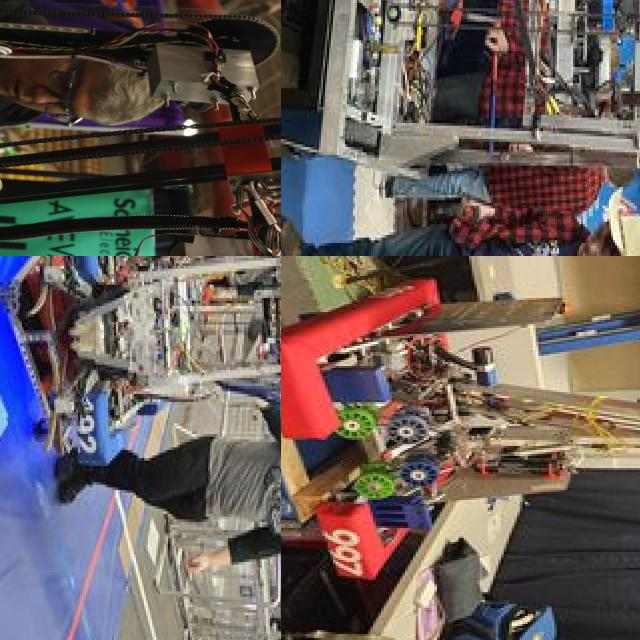FRC-Robots: (281, 256, 640, 599), (309, 0, 640, 217), (78, 256, 281, 512), (0, 82, 281, 256)
